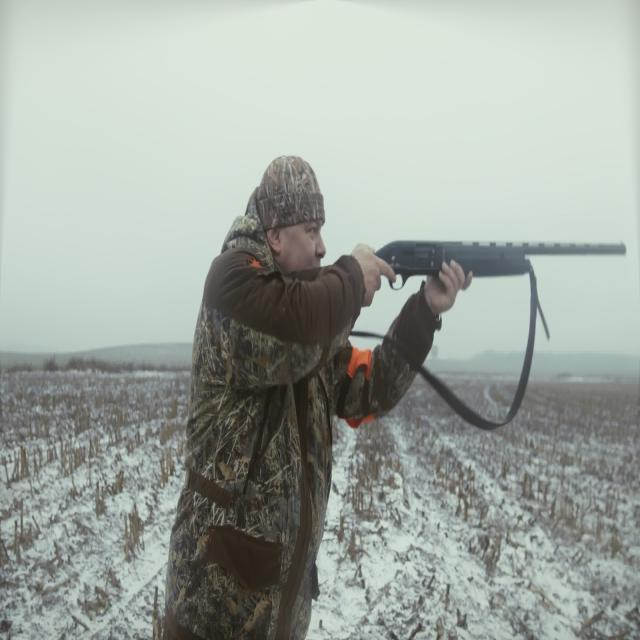poacher: (245, 169, 404, 639)
weapon: (310, 180, 390, 320)
